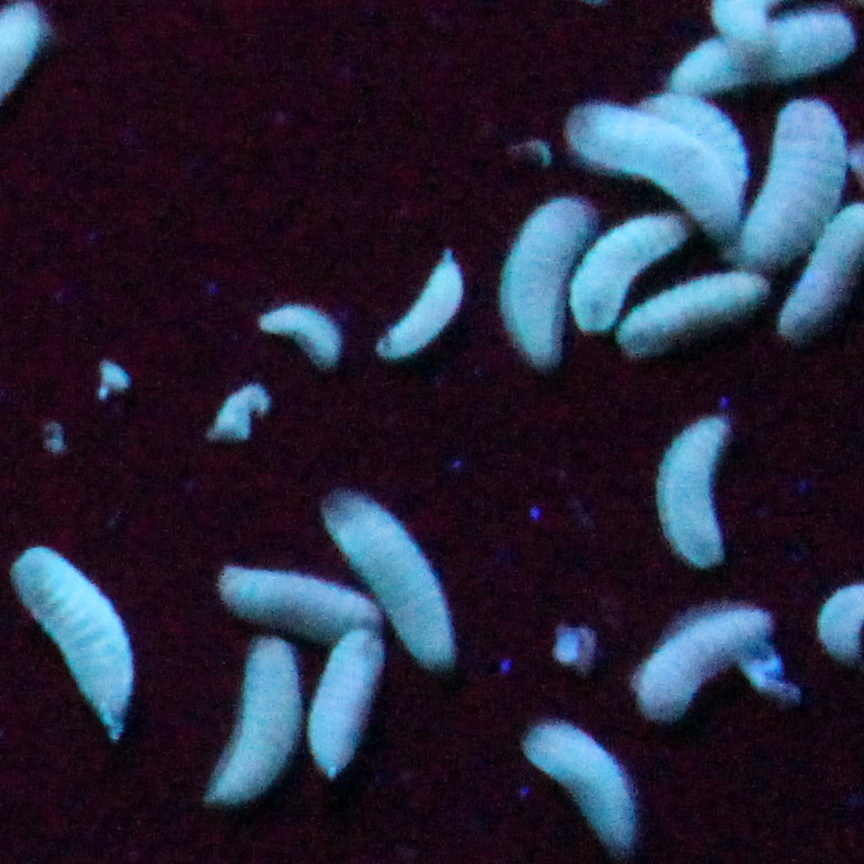larve: (8, 536, 142, 736), (331, 493, 467, 677), (563, 103, 734, 238), (738, 100, 844, 264), (208, 642, 302, 796), (675, 14, 855, 92), (215, 561, 386, 642), (522, 722, 628, 849), (576, 213, 683, 329), (655, 416, 735, 569), (615, 274, 760, 358), (499, 190, 570, 361), (647, 613, 767, 713), (382, 249, 462, 376), (267, 293, 341, 374)
